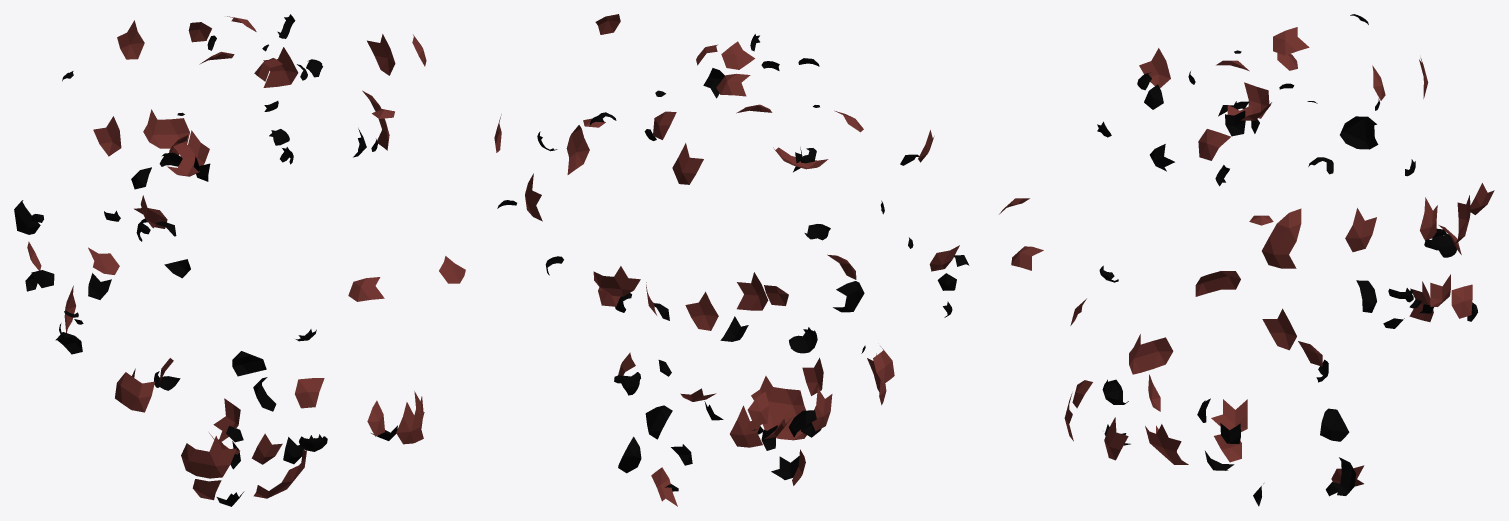
The model's file is explode.f0024.glb.
The picture shows the model from 3 angles, left to right: view 1: azimuth 30°, elevation 25°; view 2: azimuth 150°, elevation 25°; view 3: azimuth 270°, elevation 25°; orthographic projection. The views are drawn at different scales.
Parts seen in each view (by area): view 1: Body.001; view 2: Body.001; view 3: Body.001.
Boxes of the visible parts, box(x1,y1,x2,y2) form: Body.001: box(14, 14, 465, 506); Body.001: box(494, 14, 969, 506); Body.001: box(999, 14, 1494, 506).
Bounding box in the file's own units: 9.96 × 10.35 × 10.12.
1 material, 1 textured.
